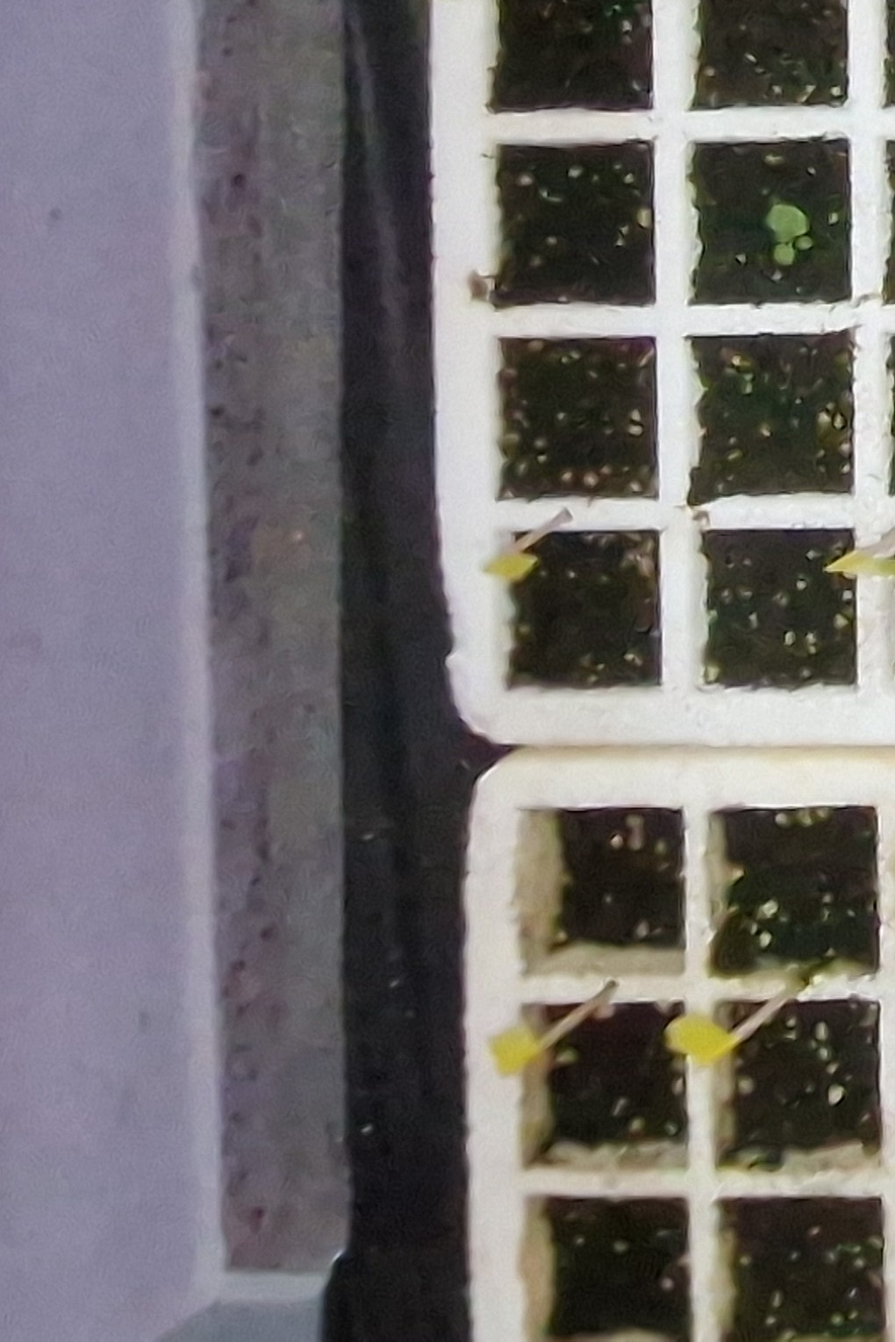Folha: (766, 205, 809, 242), (775, 245, 795, 266), (797, 236, 812, 250)
Germinacao: (766, 204, 813, 266)
